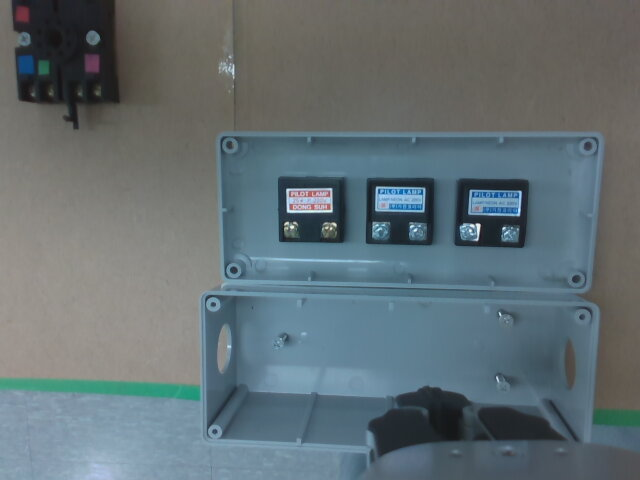L1(1): (283, 222, 298, 238)
L1(2): (320, 223, 336, 238)
L2(1): (371, 222, 390, 240)
L2(2): (408, 223, 426, 240)
L3(1): (461, 222, 479, 240)
L3(2): (501, 224, 519, 242)
